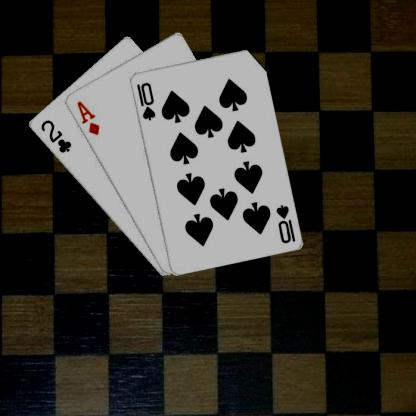10S: (273, 202, 296, 244), (134, 79, 156, 122)
2C: (38, 117, 72, 154)
AD: (74, 98, 101, 136)
